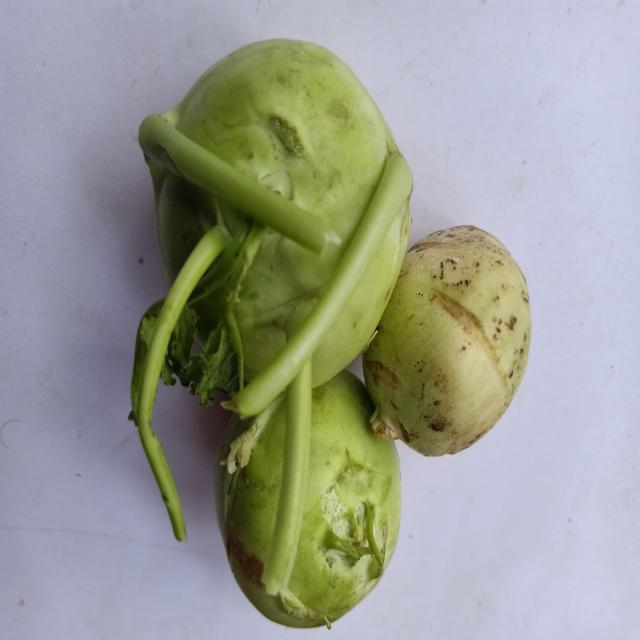Turnip: (117, 26, 418, 545), (210, 368, 407, 636), (366, 219, 547, 467)
